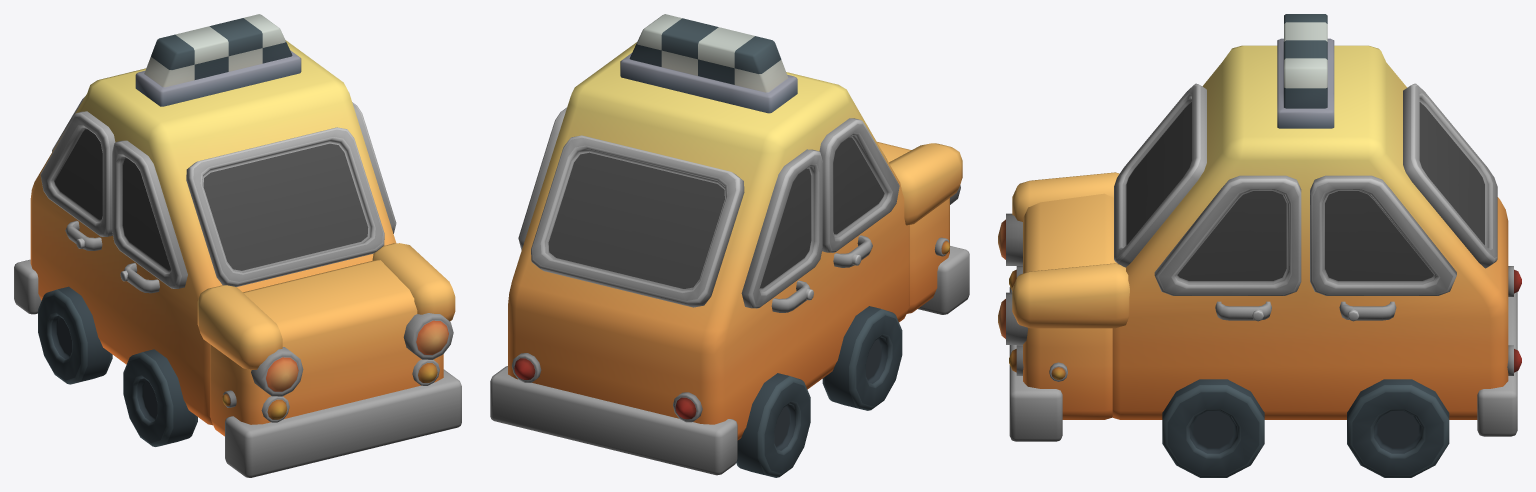
Rendered from mct_car_08.fbx.
The picture shows the model from 3 angles, left to right: view 1: azimuth 30°, elevation 25°; view 2: azimuth 150°, elevation 25°; view 3: azimuth 270°, elevation 25°; orthographic projection. The views are drawn at different scales.
Visible parts, largest first — view 1: mct_car_08, mct_car_08_w; view 2: mct_car_08, mct_car_08_w; view 3: mct_car_08, mct_car_08_w.
Part boxes in pixels (left/top/right/bottom): mct_car_08: left=14, top=14, right=461, bottom=477; mct_car_08_w: left=38, top=286, right=197, bottom=446; mct_car_08: left=490, top=14, right=969, bottom=475; mct_car_08_w: left=736, top=306, right=902, bottom=477; mct_car_08: left=998, top=14, right=1521, bottom=441; mct_car_08_w: left=1162, top=379, right=1449, bottom=477.
Size of the model in its own units: 130 by 184 by 231.
